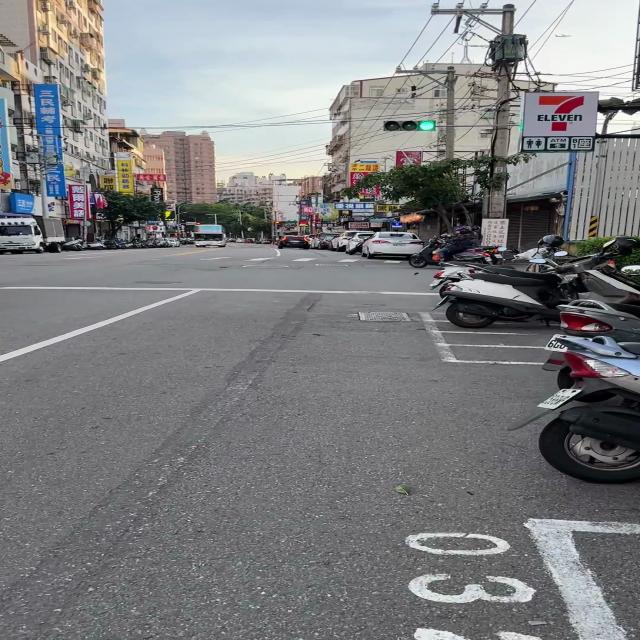bus: (194, 224, 225, 248)
car: (362, 231, 421, 259), (278, 235, 309, 249)
crosswalk: (60, 256, 403, 264)
motocycle: (510, 336, 640, 482), (437, 272, 569, 328), (543, 299, 640, 371), (551, 236, 640, 305), (430, 262, 474, 289), (408, 238, 443, 268), (457, 249, 496, 264)
trunk: (0, 218, 64, 253)
